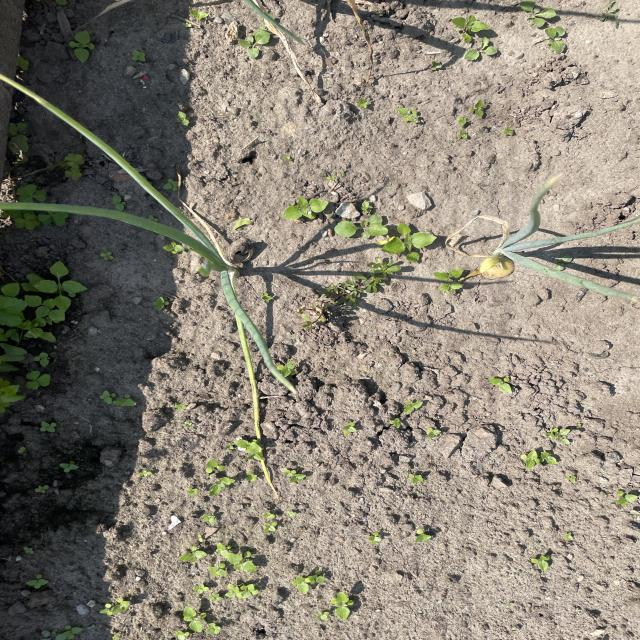Onion: (64, 166, 298, 347), (477, 192, 640, 280)
weed: (0, 258, 86, 426), (282, 194, 450, 262), (453, 4, 578, 64), (168, 544, 275, 610), (4, 182, 70, 236), (296, 568, 354, 622), (56, 23, 111, 73), (234, 23, 279, 64)
